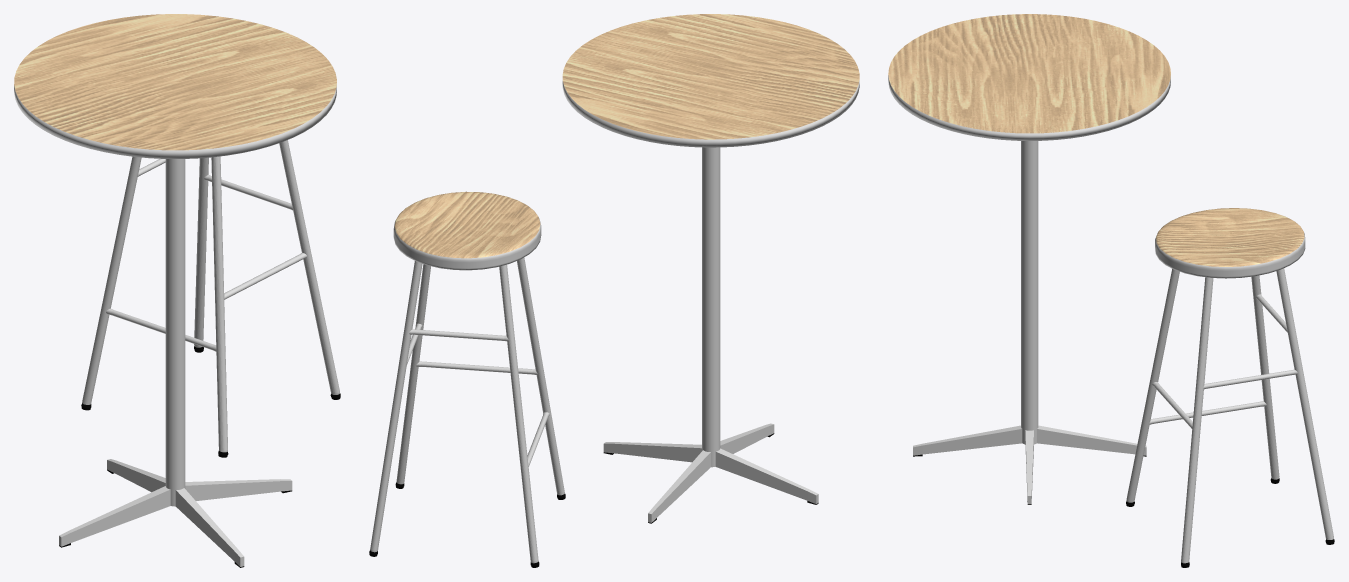
The model's file is bar_stool_high_table.glb.
3 renders of one model, left to right at view 1: azimuth 30°, elevation 25°; view 2: azimuth 150°, elevation 25°; view 3: azimuth 270°, elevation 25°, orthographic. The views are drawn at different scales.
Visible parts, largest first — view 1: BarTischHay_4, Zylinder.002_5; view 2: BarTischHay_4, Zylinder.002_5; view 3: BarTischHay_4, Zylinder.002_5.
Part boxes in pixels (<box>): BarTischHay_4: <box>14,14,336,567</box>; Zylinder.002_5: <box>81,140,340,457</box>; BarTischHay_4: <box>562,14,859,523</box>; Zylinder.002_5: <box>369,191,565,567</box>; BarTischHay_4: <box>888,14,1170,504</box>; Zylinder.002_5: <box>1126,208,1334,567</box>.
Size of the model in its own units: 0.9027 by 0.9696 by 1.01.
3 materials, 2 textured.
